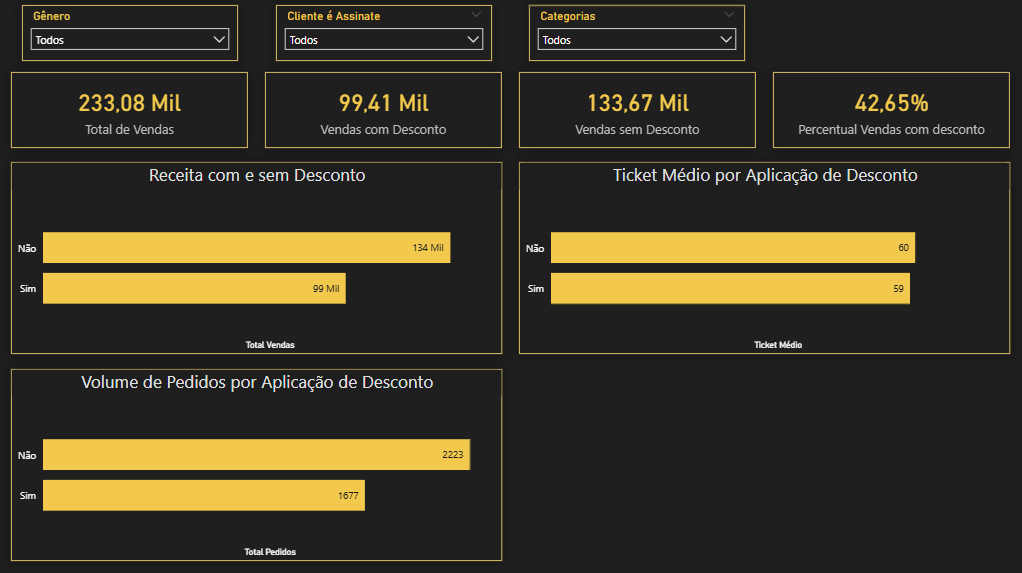

Layout of this report page (visuals, bound fields, positions):
{"tool":"powerbi","page":{"name":"Descontos & Estratégia Comercial","canvas":[1280,720],"ordinal":1},"visuals":[{"type":"card","fields":{"Values":["DimShopping.TotalSales"]},"box":[16.2,92.4,296.2,95],"z":0},{"type":"card","fields":{"Values":["DimShopping.SalesWithDiscount"]},"box":[333.9,92.4,296,95],"z":1000},{"type":"card","fields":{"Values":["DimShopping.SalesWithoutDiscount"]},"box":[651.3,92.4,296,95],"z":2000},{"type":"card","fields":{"Values":["DimShopping.PercentageSalesWithDiscount"]},"box":[968.8,92.4,296.2,95],"z":3000},{"type":"barChart","title":"Receita com e sem Desconto","fields":{"Category":["DimShopping.DiscountApplied_PT"],"Y":["DimShopping.TotalSales"]},"box":[16.2,205.3,613.8,240],"z":4000},{"type":"barChart","title":"Ticket Médio por Aplicação de Desconto","fields":{"Category":["DimShopping.DiscountApplied_PT"],"Y":["DimShopping.AverageTicket"]},"box":[651.2,205.3,613.8,240],"z":5000},{"type":"barChart","title":"Volume de Pedidos por Aplicação de Desconto","fields":{"Category":["DimShopping.DiscountApplied_PT"],"Y":["DimShopping.TotalOrders"]},"box":[16.2,463.8,613.8,240],"z":6000},{"type":"slicer","fields":{"Values":["DimShopping.Gender_PT"]},"box":[30,8.8,270,70],"z":7000},{"type":"slicer","fields":{"Values":["DimShopping.SubscriptionStatus_PT"]},"box":[347.5,8.8,270,70],"z":8000},{"type":"slicer","fields":{"Values":["DimShopping.Category"]},"box":[663.8,8.8,270,70],"z":9000}]}

Visuals, with their boxes in screenshot pixels (x1, y1, x2, y2), scaled from the page's 1280x720 canvas onto the 1022x573 screenshot:
card - DimShopping.TotalSales: [left=13, top=74, right=249, bottom=149]
card - DimShopping.SalesWithDiscount: [left=267, top=74, right=503, bottom=149]
card - DimShopping.SalesWithoutDiscount: [left=520, top=74, right=756, bottom=149]
card - DimShopping.PercentageSalesWithDiscount: [left=774, top=74, right=1010, bottom=149]
"Receita com e sem Desconto" barChart: [left=13, top=163, right=503, bottom=354]
"Ticket Médio por Aplicação de Desconto" barChart: [left=520, top=163, right=1010, bottom=354]
"Volume de Pedidos por Aplicação de Desconto" barChart: [left=13, top=369, right=503, bottom=560]
slicer - DimShopping.Gender_PT: [left=24, top=7, right=240, bottom=63]
slicer - DimShopping.SubscriptionStatus_PT: [left=277, top=7, right=493, bottom=63]
slicer - DimShopping.Category: [left=530, top=7, right=746, bottom=63]
